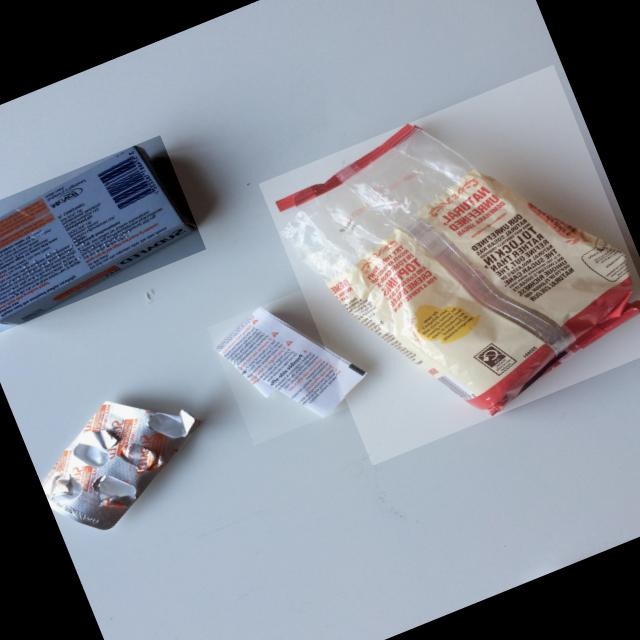Other Carton: (0, 145, 196, 324)
Paper bag: (214, 307, 368, 417)
Plastic film: (274, 123, 640, 416)
